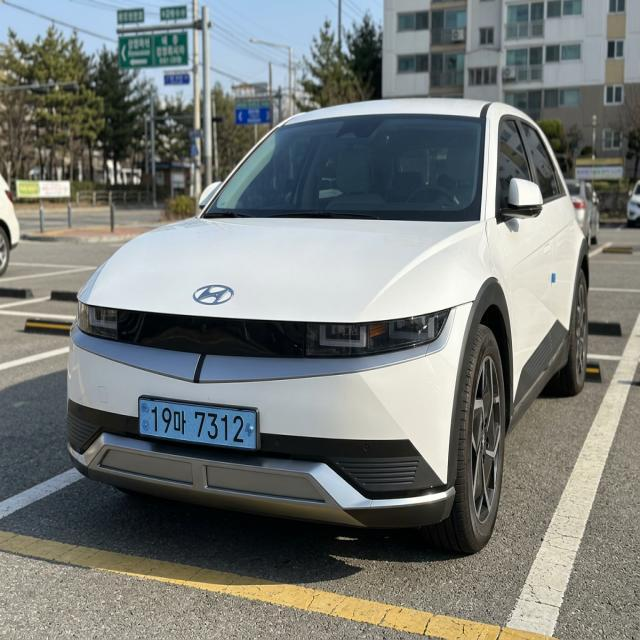car: (119, 388, 281, 460)
carev: (243, 407, 259, 454), (139, 396, 152, 436)
